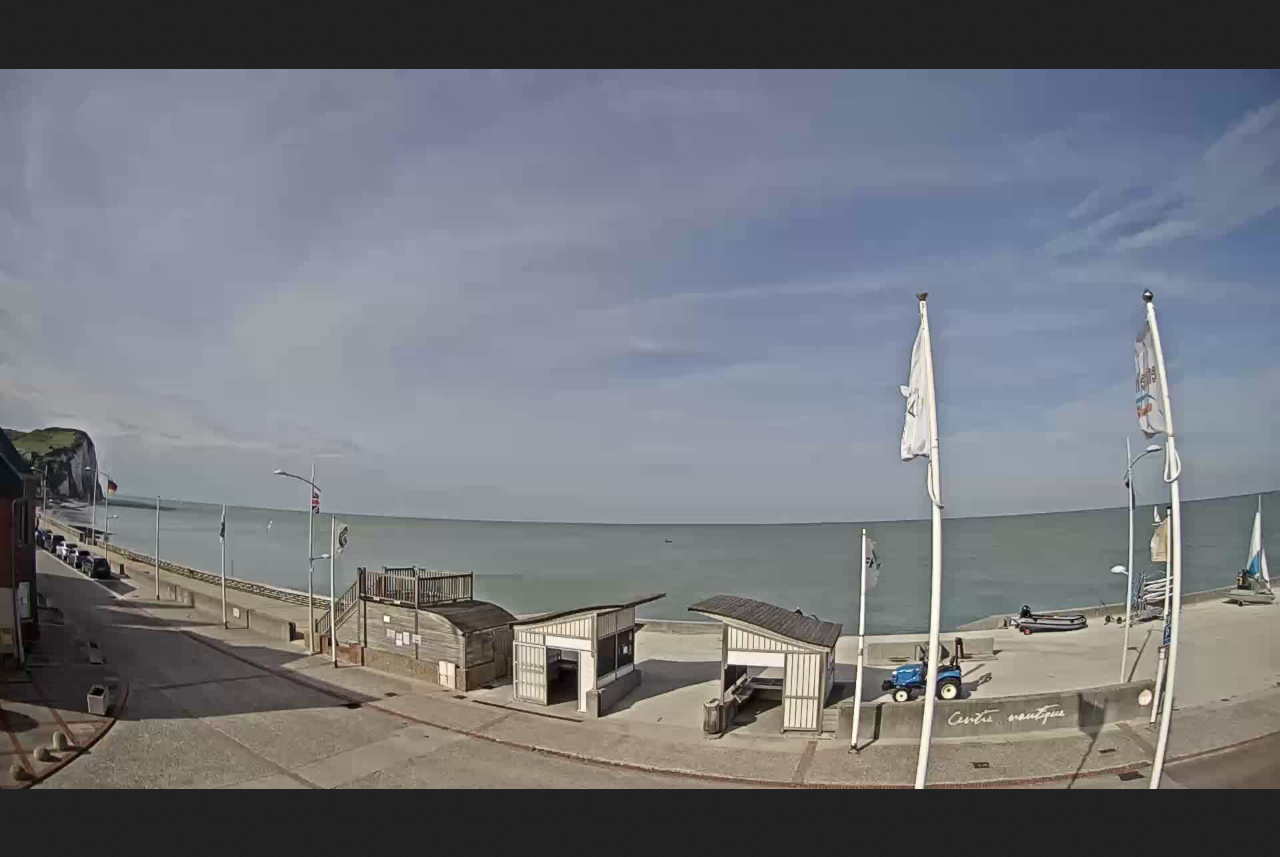maybe: (1147, 513, 1173, 562), (862, 533, 882, 596)
no: (898, 296, 937, 469), (1133, 321, 1171, 440)
